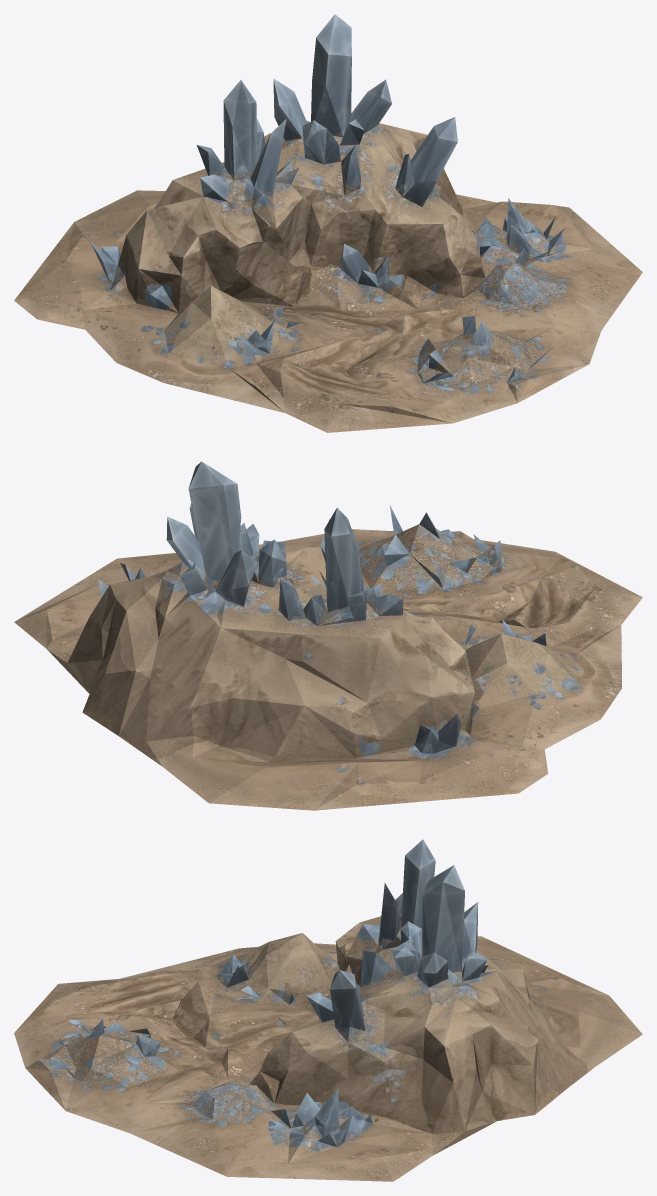
Rendered from node.material_source.glb.
3 renders of one model, top to bottom at view 1: azimuth 30°, elevation 25°; view 2: azimuth 150°, elevation 25°; view 3: azimuth 270°, elevation 25°, orthographic. The views are drawn at different scales.
Parts seen in each view (by area): view 1: body; view 2: body; view 3: body.
Boxes of the visible parts, x1,y1,x2,y2 form: body: [14, 14, 642, 432]; body: [14, 461, 642, 810]; body: [14, 839, 642, 1181].
Size of the model in its own units: 1.84 by 0.7628 by 1.98.
Materials: 1 (1 with a texture image).
